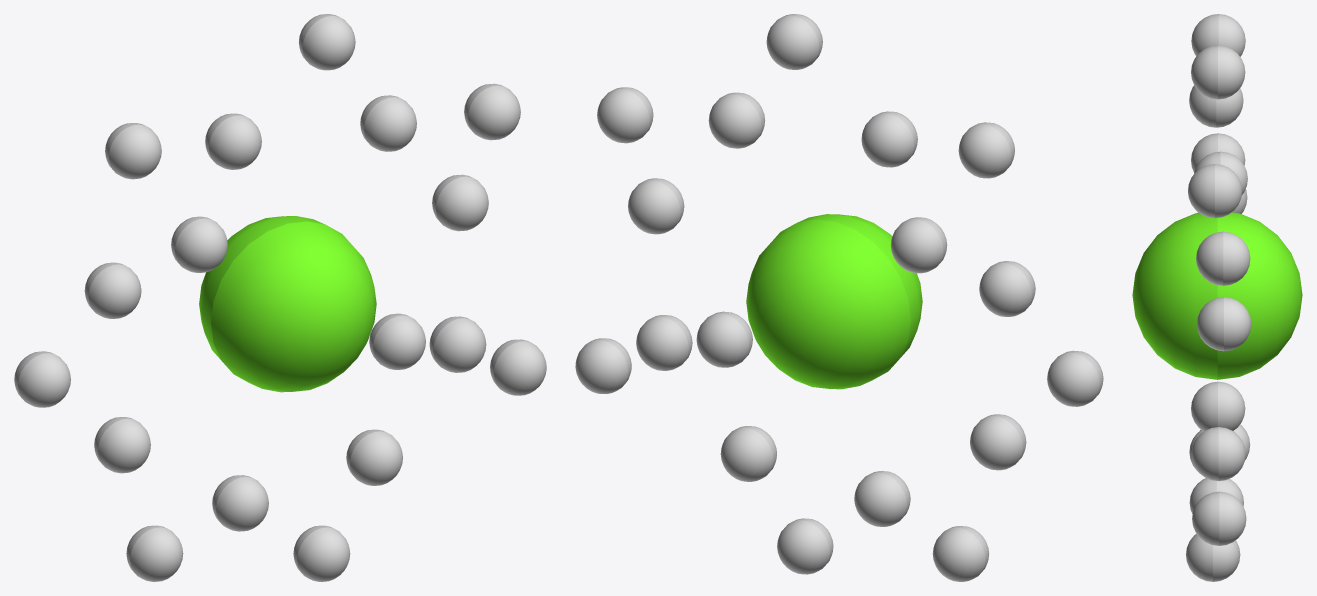
Rendered from chlorineatom.fbx.
3 renders of one model, left to right at view 1: azimuth 30°, elevation 25°; view 2: azimuth 150°, elevation 25°; view 3: azimuth 270°, elevation 25°, orthographic. The views are drawn at different scales.
Parts seen in each view (by area): view 1: Sfera (×18); view 2: Sfera (×18); view 3: Sfera (×15).
Boxes of the visible parts, x1,y1,x2,y2 form: Sfera (×18): [14, 14, 546, 581]; Sfera (×18): [575, 14, 1103, 581]; Sfera (×15): [1132, 14, 1302, 581].
Size of the model in its own units: 3.58 by 3.65 by 1.05.
